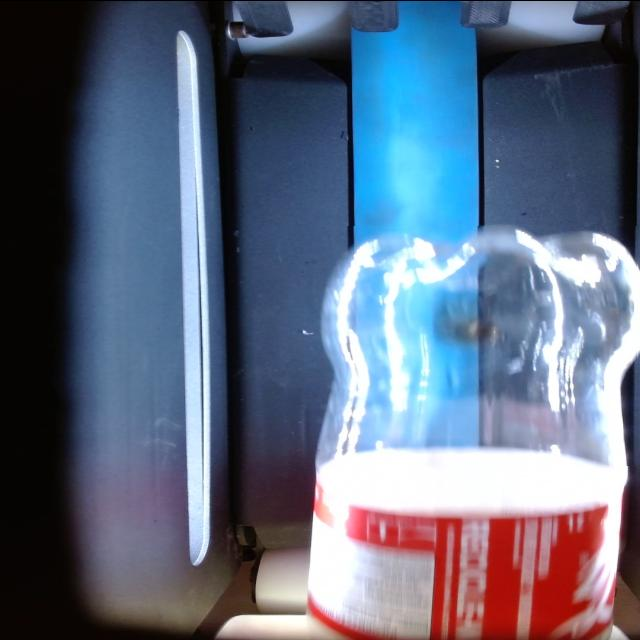bottom: (318, 225, 637, 465)
label: (309, 448, 624, 640)
